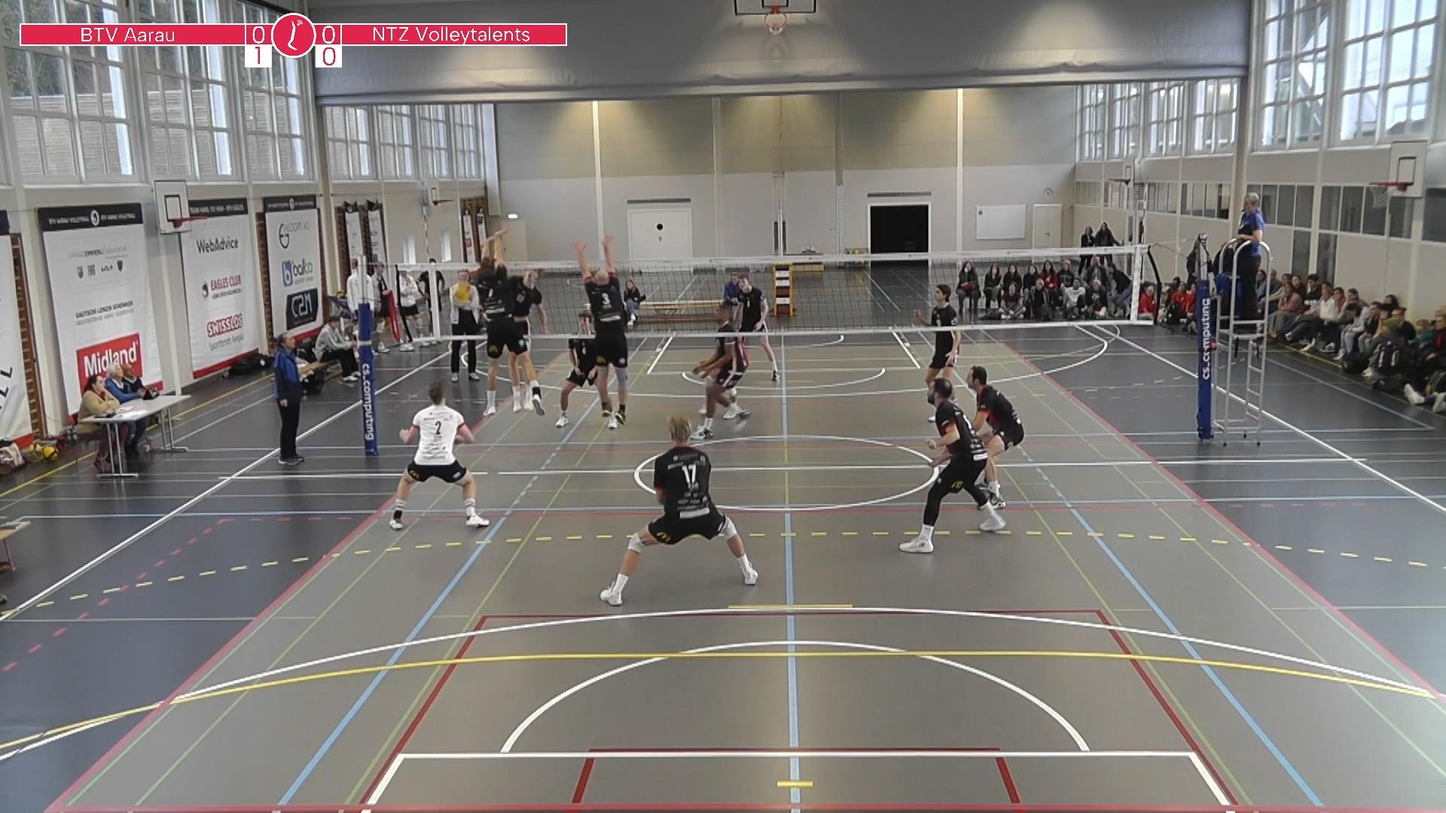attacco: (501, 258, 544, 422)
muro: (458, 226, 544, 419), (568, 228, 650, 425)
